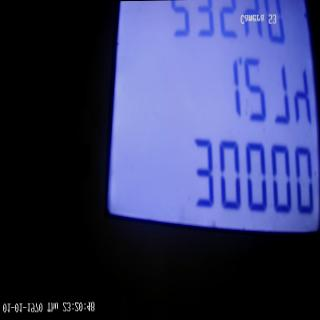screen: (98, 0, 320, 242)
